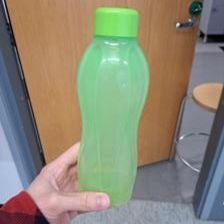bottle: (70, 6, 151, 209)
